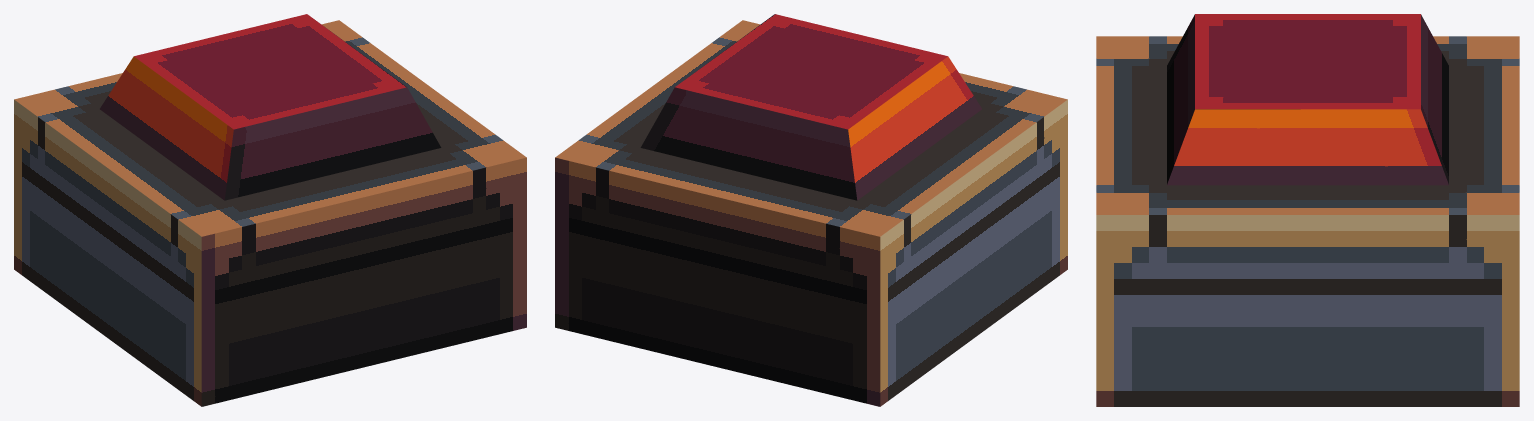
File: button.glb
3 views of the same model, side by side, from view 1: azimuth 30°, elevation 25°; view 2: azimuth 150°, elevation 25°; view 3: azimuth 270°, elevation 25° (orthographic). The views are drawn at different scales.
Parts seen in each view (by area): view 1: cube.002, cube.003; view 2: cube.002, cube.003; view 3: cube.002, cube.003.
Boxes of the visible parts, box(x1,y1,x2,y2) form: cube.002: box(14, 20, 526, 406); cube.003: box(100, 14, 441, 200); cube.002: box(555, 20, 1067, 406); cube.003: box(640, 14, 981, 200); cube.002: box(1096, 36, 1519, 406); cube.003: box(1167, 14, 1448, 185).
Size of the model in its own units: 0.1869 by 0.1246 by 0.1869.
1 material, 1 textured.
